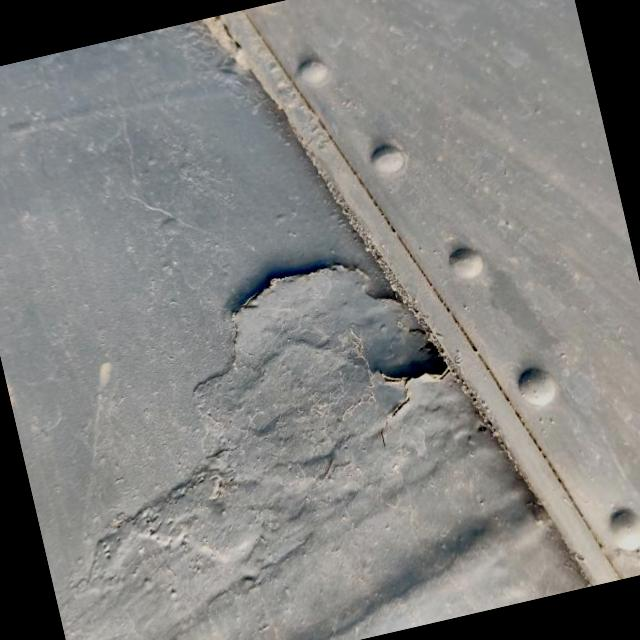paint-off: (192, 211, 476, 476)
